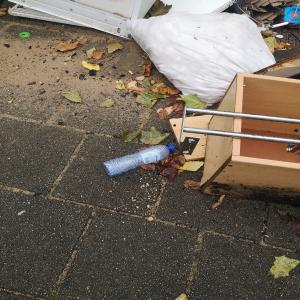Plastic-bottle: (102, 141, 181, 180)
Trash: (16, 30, 36, 42)
